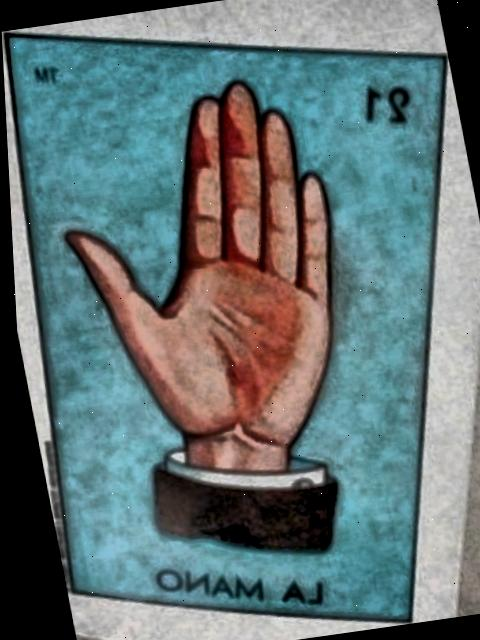La Mano: (18, 35, 444, 620)
